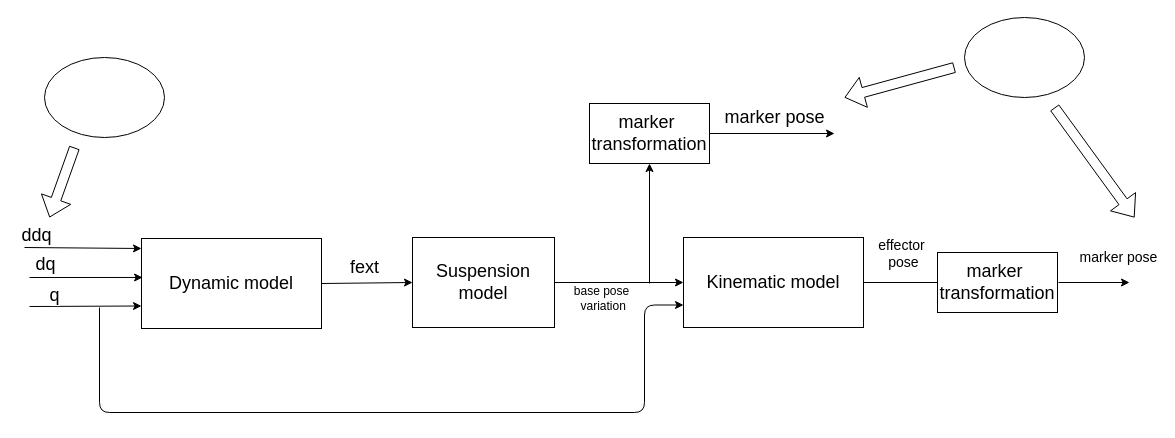
This 1175x438 diagram has some shape labels left out. Here are the shapes that lost their labels. From the top down, the centre of each, then its label:
At [1024,57]: "Observable output".
At [104,97]: "Intput".
